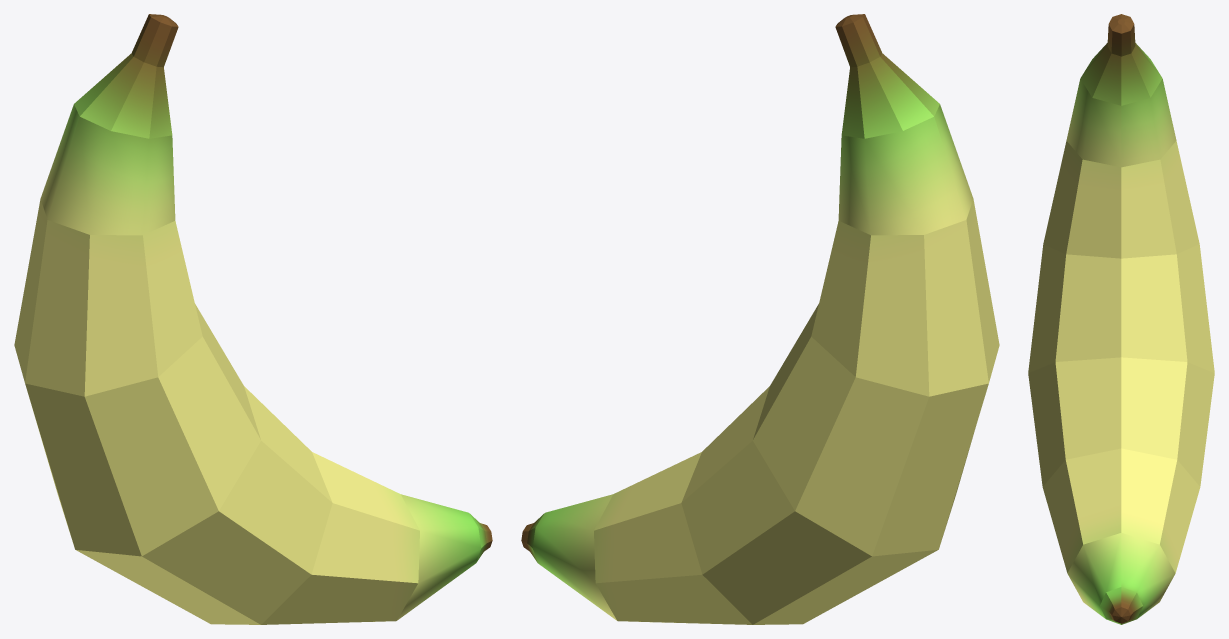
The model's file is banana.FBX.
3 renders of one model, left to right at view 1: azimuth 30°, elevation 25°; view 2: azimuth 150°, elevation 25°; view 3: azimuth 270°, elevation 25°, orthographic. The views are drawn at different scales.
Visible parts, largest first — view 1: Cylinder001; view 2: Cylinder001; view 3: Cylinder001.
Boxes of the visible parts, x1=… form: Cylinder001: x1=14, y1=14, x2=492, y2=624; Cylinder001: x1=521, y1=14, x2=999, y2=624; Cylinder001: x1=1028, y1=14, x2=1214, y2=624.
Size of the model in its own units: 40.47 by 54.64 by 17.87.
